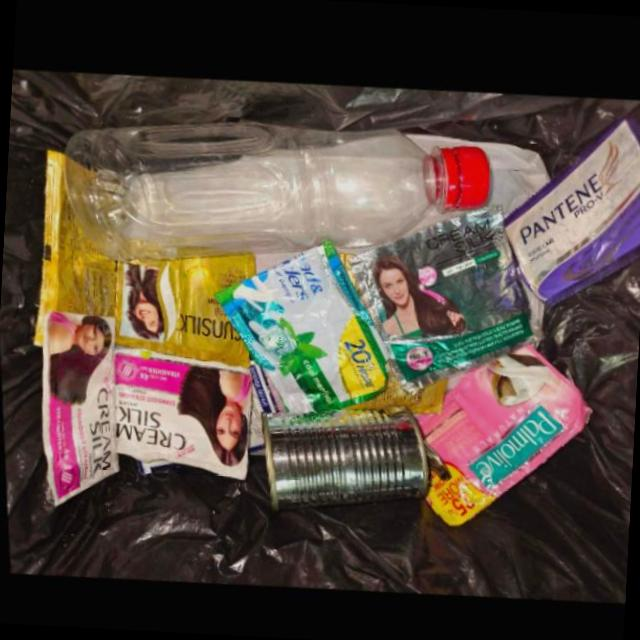chai_nhua_pet: (60, 120, 487, 258)
goi_nhua_nho: (344, 196, 540, 387), (414, 336, 587, 519), (212, 234, 387, 408), (502, 104, 640, 301), (112, 341, 250, 474), (29, 148, 116, 345), (113, 250, 254, 362), (40, 307, 115, 506), (342, 355, 444, 407), (246, 348, 276, 450), (132, 456, 187, 473)
nhom: (261, 403, 428, 504)
